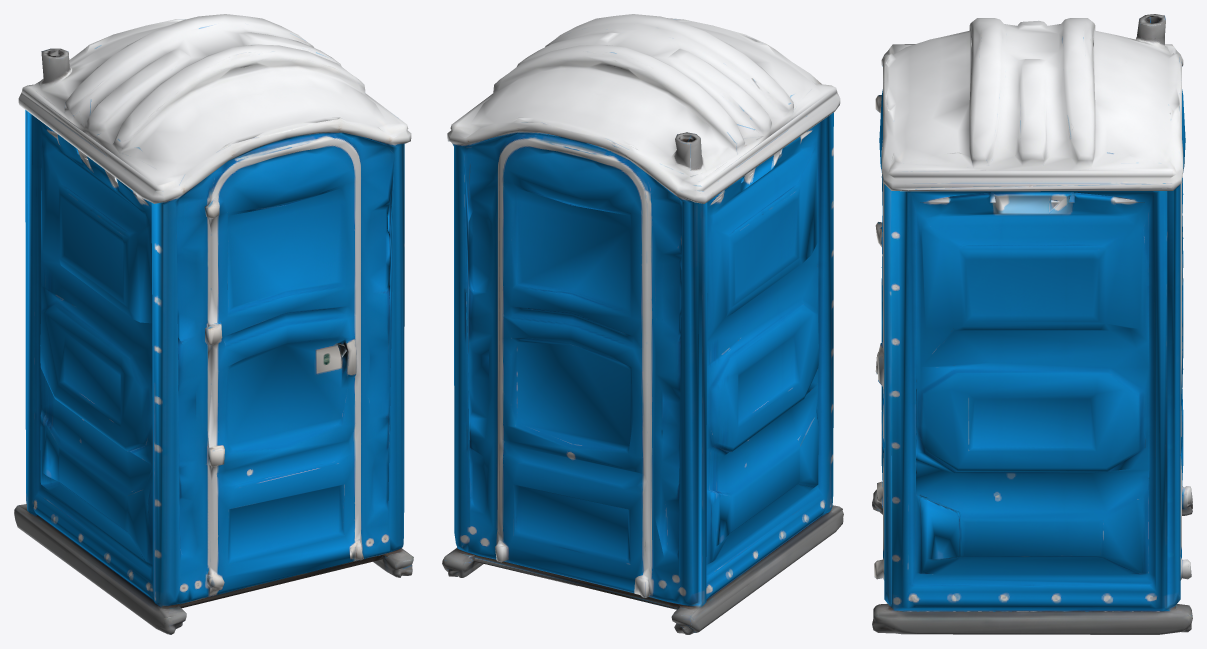
Rendered from Blue_Portable_Toilet_8FTTall_0222022945_texture.glb.
3 views of the same model, side by side, from view 1: azimuth 30°, elevation 25°; view 2: azimuth 150°, elevation 25°; view 3: azimuth 270°, elevation 25° (orthographic). The views are drawn at different scales.
Parts seen in each view (by area): view 1: Mesh_0; view 2: Mesh_0; view 3: Mesh_0.
Part boxes in pixels (x1,y1,x2,y2): Mesh_0: (14,14,413,634); Mesh_0: (442,14,843,634); Mesh_0: (872,14,1192,634).
Size of the model in its own units: 1.31 by 2.44 by 1.32.
1 material, 1 textured.
